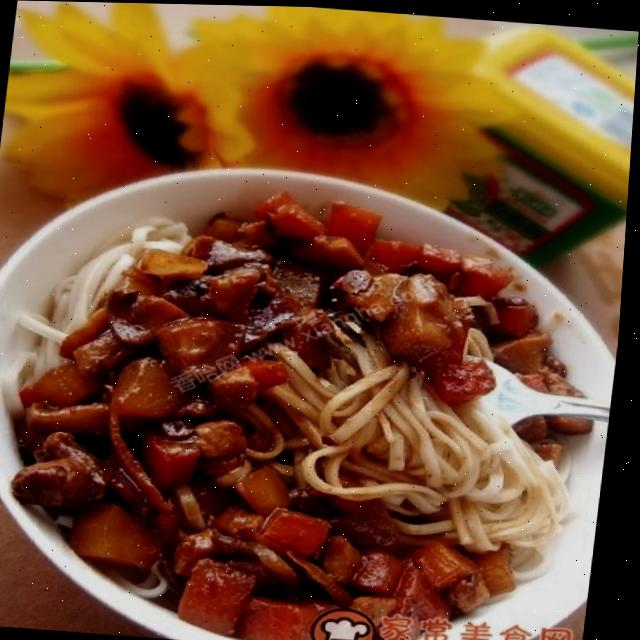面条主食: (0, 156, 632, 640)
